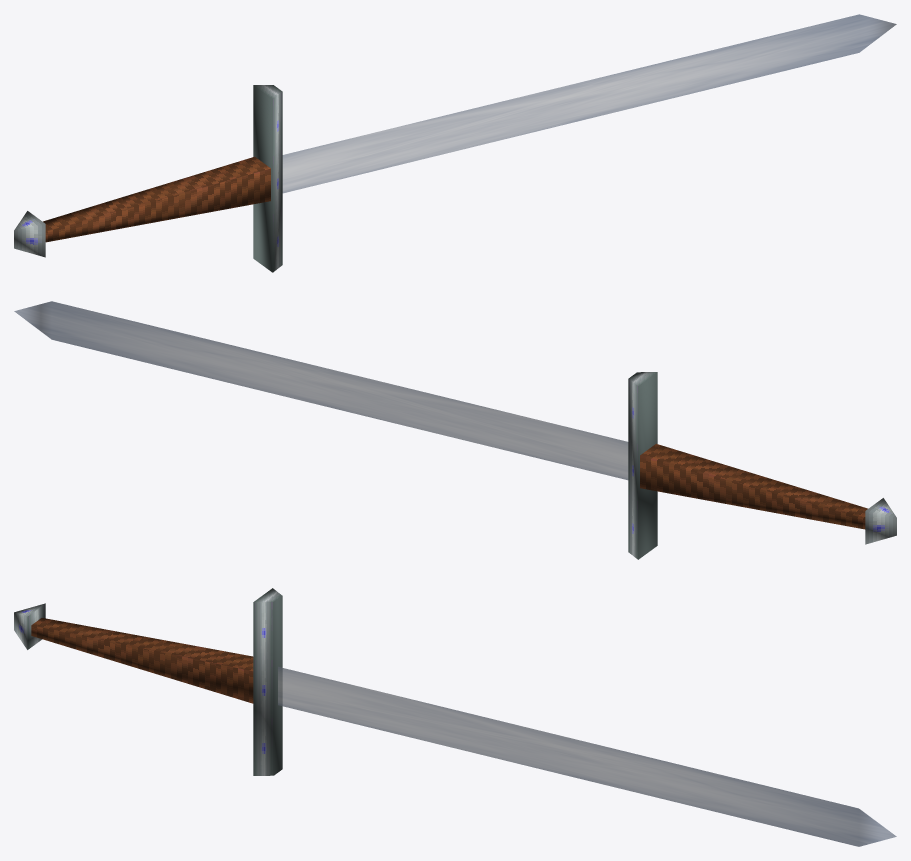
3 views of the same model, one above another, from view 1: azimuth 30°, elevation 25°; view 2: azimuth 150°, elevation 25°; view 3: azimuth 330°, elevation 25° (orthographic).
Parts seen in each view (by area): view 1: it190; view 2: it190; view 3: it190.
Boxes of the visible parts, <box> form: it190: <box>14,14,896,272</box>; it190: <box>14,301,896,559</box>; it190: <box>14,588,896,846</box>.
Bounding box in the file's own units: 4.29 × 0.8066 × 0.1641.
Materials: 4 (4 with a texture image).
